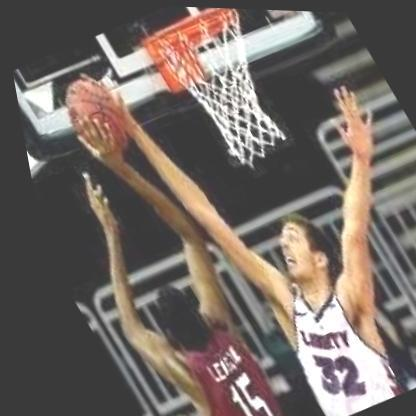basketball: (44, 66, 135, 159)
